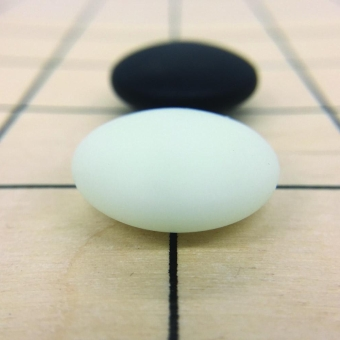black: (109, 40, 259, 116)
crossing: (1, 89, 49, 128)
white: (71, 106, 282, 236)
